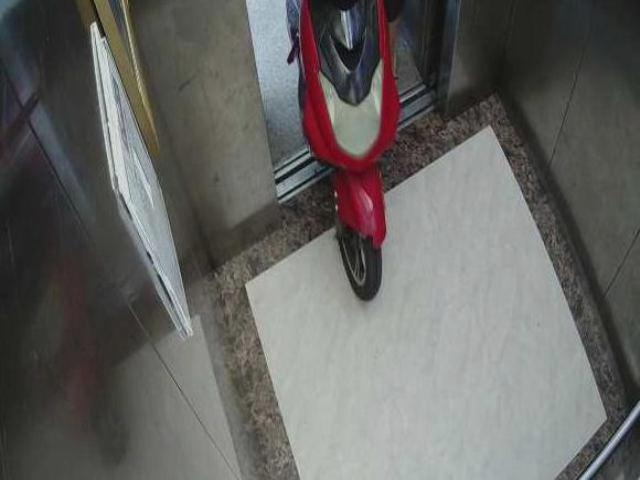emotor: (274, 5, 414, 296)
